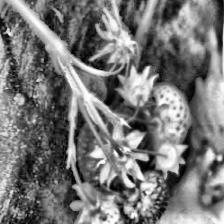Gray Mold: (88, 0, 141, 78)
